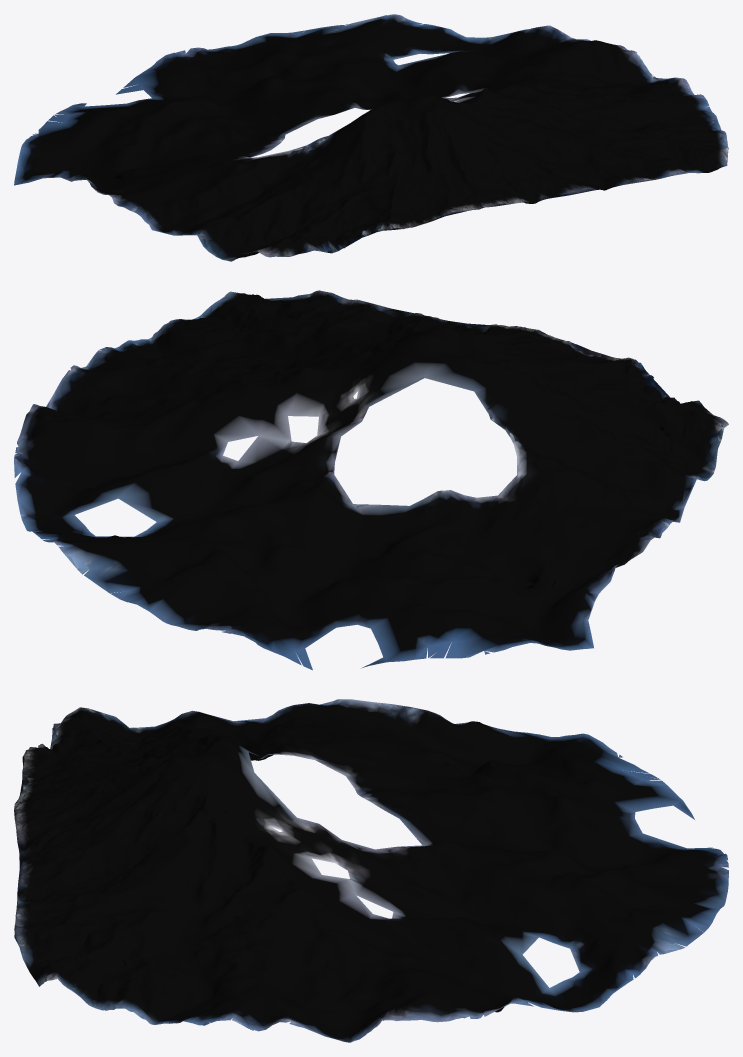
File: mountain-lite.glb
3 renders of one model, top to bottom at view 1: azimuth 30°, elevation 25°; view 2: azimuth 150°, elevation 25°; view 3: azimuth 270°, elevation 25°, orthographic. The views are drawn at different scales.
Visible parts, largest first — view 1: Mountain; view 2: Mountain; view 3: Mountain.
Part boxes in pixels (left/top/right/bottom): Mountain: left=14, top=14, right=728, bottom=261; Mountain: left=14, top=290, right=728, bottom=670; Mountain: left=14, top=699, right=728, bottom=1042.
Bounding box in the file's own units: 2.93 × 0.6086 × 2.61.
1 material, 1 textured.
